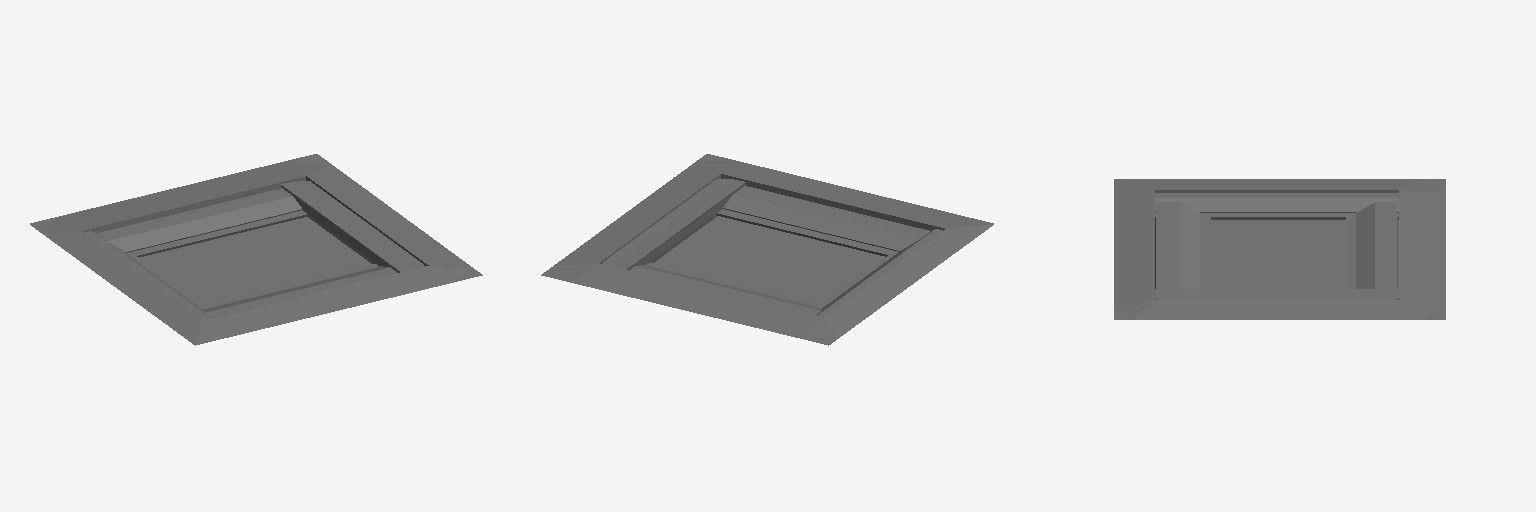
File: bigwindow.obj
The picture shows the model from 3 angles: view 1: azimuth 30°, elevation 25°; view 2: azimuth 150°, elevation 25°; view 3: azimuth 270°, elevation 25°; orthographic projection.
Visible parts, largest first — view 1: polySurface1754 windowplane4:pPlane5, polySurface1758; view 2: polySurface1754 windowplane4:pPlane5, polySurface1758; view 3: polySurface1754 windowplane4:pPlane5, polySurface1758.
Part boxes in pixels (left/top/right/bottom): polySurface1754 windowplane4:pPlane5: left=30, top=154, right=482, bottom=345; polySurface1758: left=84, top=181, right=424, bottom=320; polySurface1754 windowplane4:pPlane5: left=541, top=154, right=993, bottom=345; polySurface1758: left=602, top=178, right=942, bottom=317; polySurface1754 windowplane4:pPlane5: left=1114, top=179, right=1445, bottom=319; polySurface1758: left=1155, top=193, right=1398, bottom=299.
Bounding box in the file's own units: 1 × 0.0626 × 1.